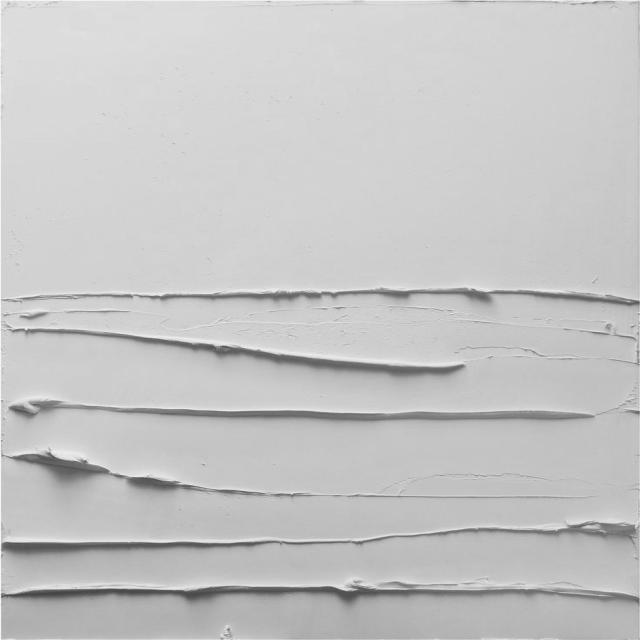trowels marks: (0, 274, 640, 610)
